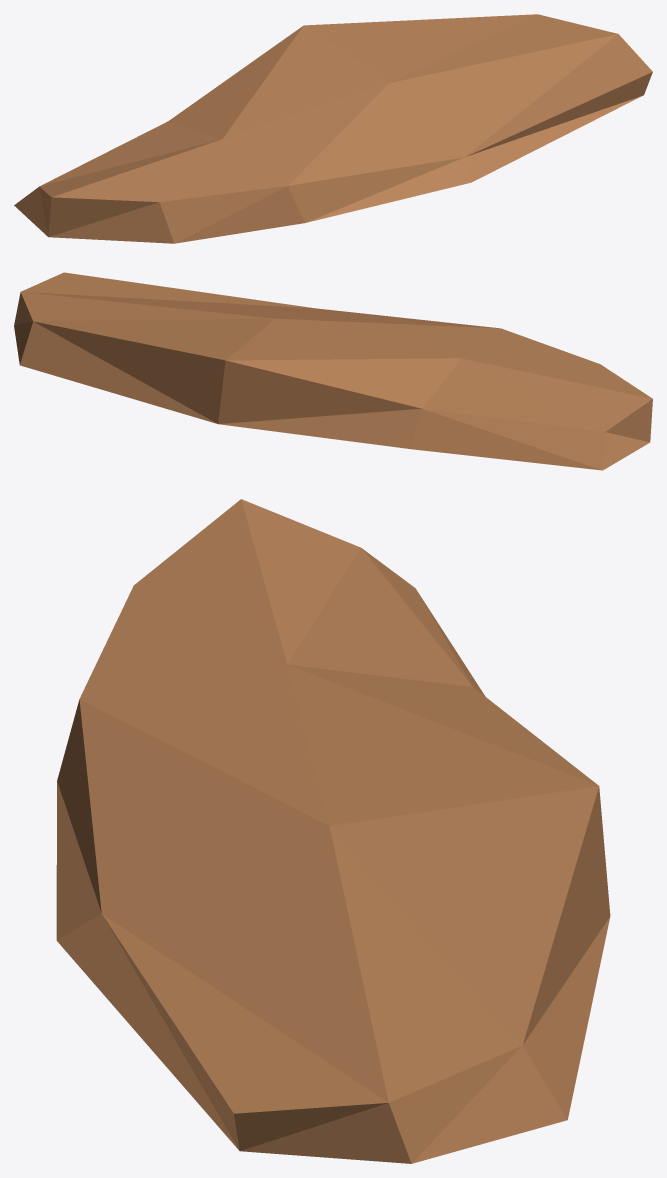
Rendered from Rock_5.fbx.
The picture shows the model from 3 angles, top to bottom: view 1: azimuth 30°, elevation 25°; view 2: azimuth 150°, elevation 25°; view 3: azimuth 270°, elevation 25°; orthographic projection. The views are drawn at different scales.
Parts seen in each view (by area): view 1: Rock_5; view 2: Rock_5; view 3: Rock_5.
Boxes of the visible parts, <box> form: Rock_5: <box>14,14,652,243</box>; Rock_5: <box>14,272,652,470</box>; Rock_5: <box>56,499,610,1163</box>.
Size of the model in its own units: 126 by 50.63 by 12.68.
